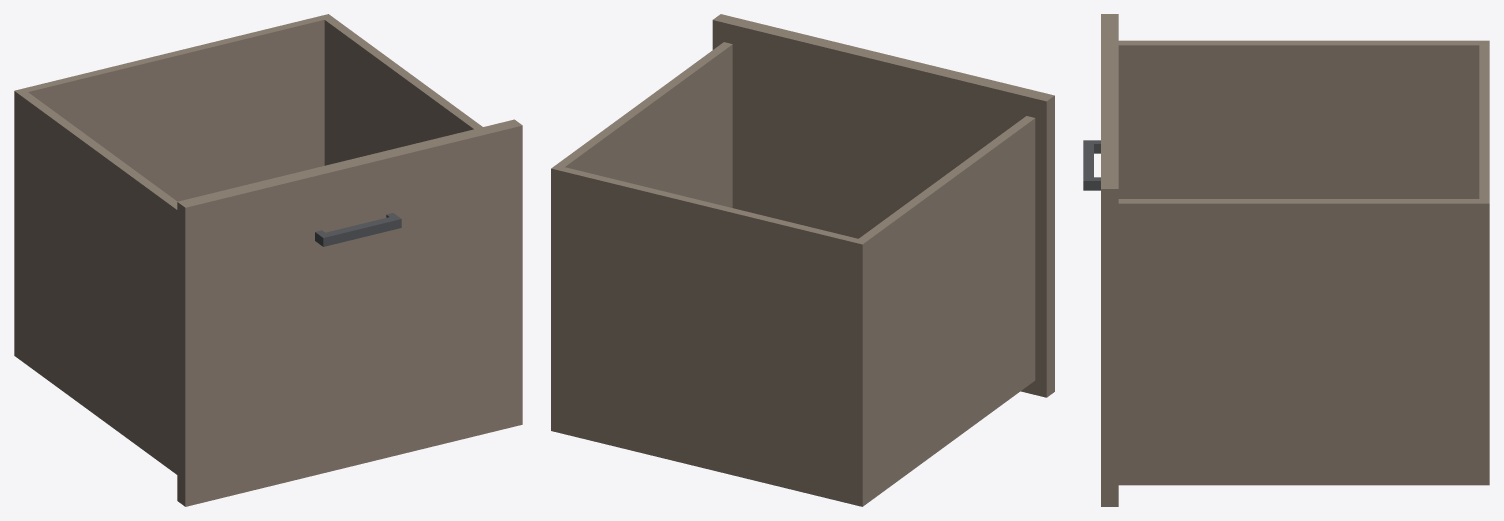
Rendered from Door1_C5_06.fbx.
3 views of the same model, side by side, from view 1: azimuth 30°, elevation 25°; view 2: azimuth 150°, elevation 25°; view 3: azimuth 270°, elevation 25° (orthographic). The views are drawn at different scales.
Visible parts, largest first — view 1: Door1_C5_06; view 2: Door1_C5_06; view 3: Door1_C5_06.
Part boxes in pixels (<box>): Door1_C5_06: <box>14,14,522,506</box>; Door1_C5_06: <box>551,14,1054,506</box>; Door1_C5_06: <box>1083,14,1489,506</box>.
Bounding box in the file's own units: 59 × 50 × 57.89.
